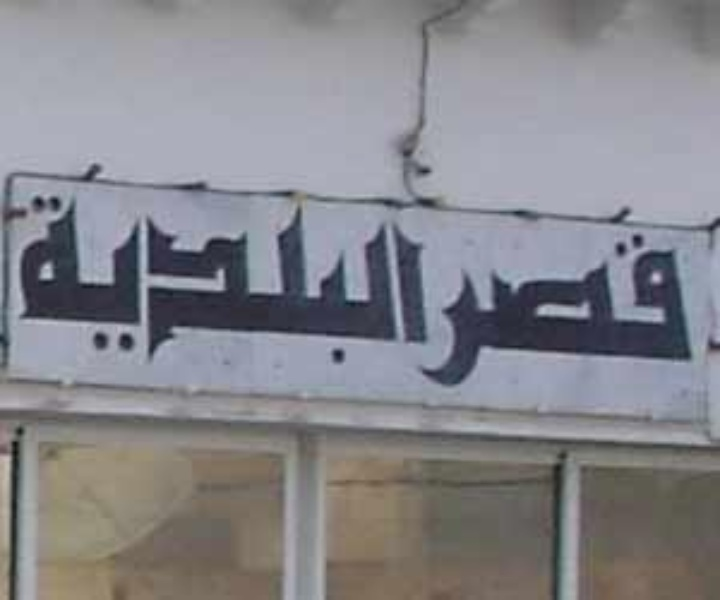text: (17, 181, 32, 375), (33, 181, 48, 375), (49, 181, 64, 375), (65, 181, 80, 375), (81, 181, 96, 375), (97, 181, 112, 375), (113, 181, 128, 375), (129, 181, 144, 375), (145, 181, 160, 375), (161, 181, 176, 375), (177, 181, 192, 375), (193, 181, 208, 375), (209, 181, 224, 375), (225, 181, 240, 375), (241, 181, 256, 375), (257, 181, 272, 375), (273, 181, 288, 375), (289, 181, 304, 375), (305, 181, 320, 375), (321, 181, 336, 375), (337, 181, 352, 375), (353, 181, 368, 375), (369, 181, 384, 375), (385, 181, 400, 375), (401, 181, 416, 375), (417, 181, 432, 375), (481, 233, 496, 397), (497, 233, 512, 397), (513, 233, 528, 397), (529, 233, 544, 397), (545, 233, 560, 397), (561, 233, 576, 397), (577, 233, 592, 397), (593, 233, 608, 397), (609, 233, 624, 397), (625, 233, 640, 397), (641, 233, 656, 397), (657, 233, 672, 397), (673, 233, 688, 397), (473, 233, 480, 397), (689, 233, 694, 397), (433, 181, 435, 375)
